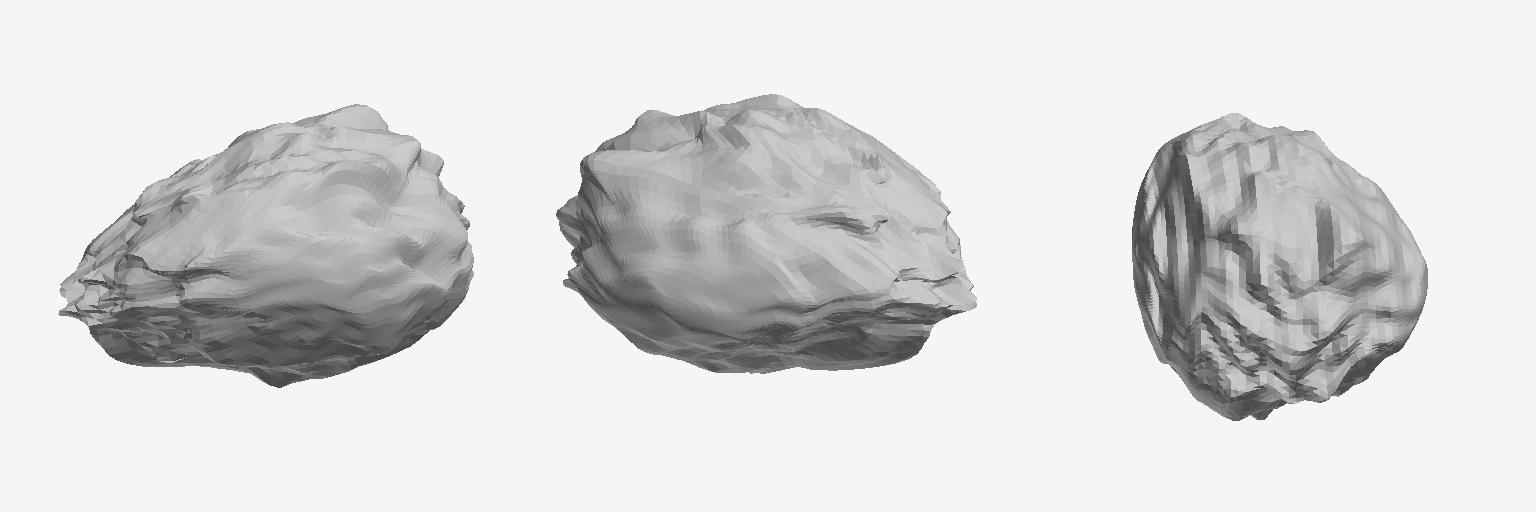
Rendered from asteroid3.obj.
3 views of the same model, side by side, from view 1: azimuth 30°, elevation 25°; view 2: azimuth 150°, elevation 25°; view 3: azimuth 270°, elevation 25° (orthographic).
Bounding box in the file's own units: 7.8 × 4.63 × 4.93.